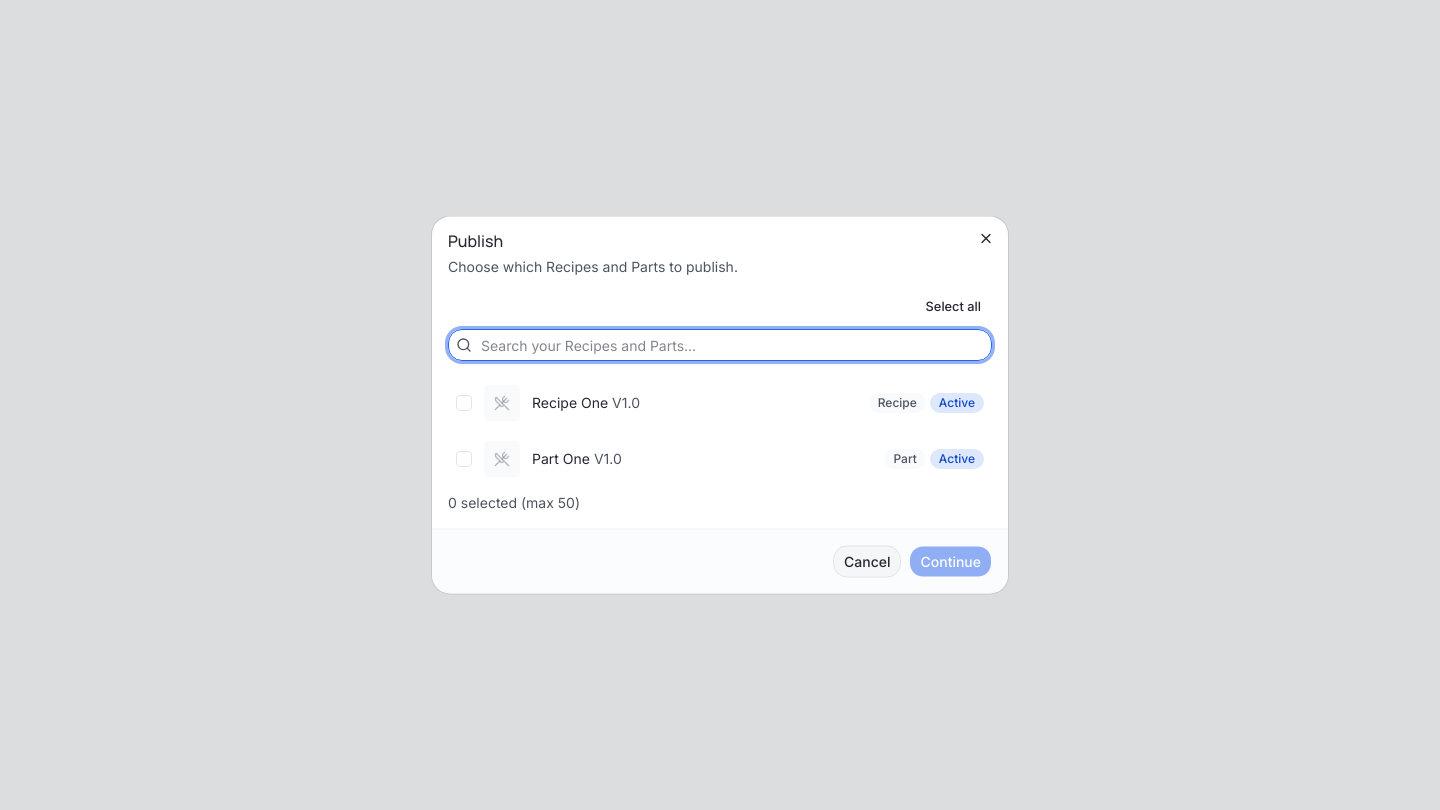
Test case: BulkPublishDialog › applies one shared settings payload and creates one independent link per selected item
Expected: the text "Recipe One" is shown, [532, 394, 608, 410]
What coordinates should you click on to do the following:
click the button "Select all"
I would click on:
 (953, 306)
Its box is [915, 292, 992, 320].
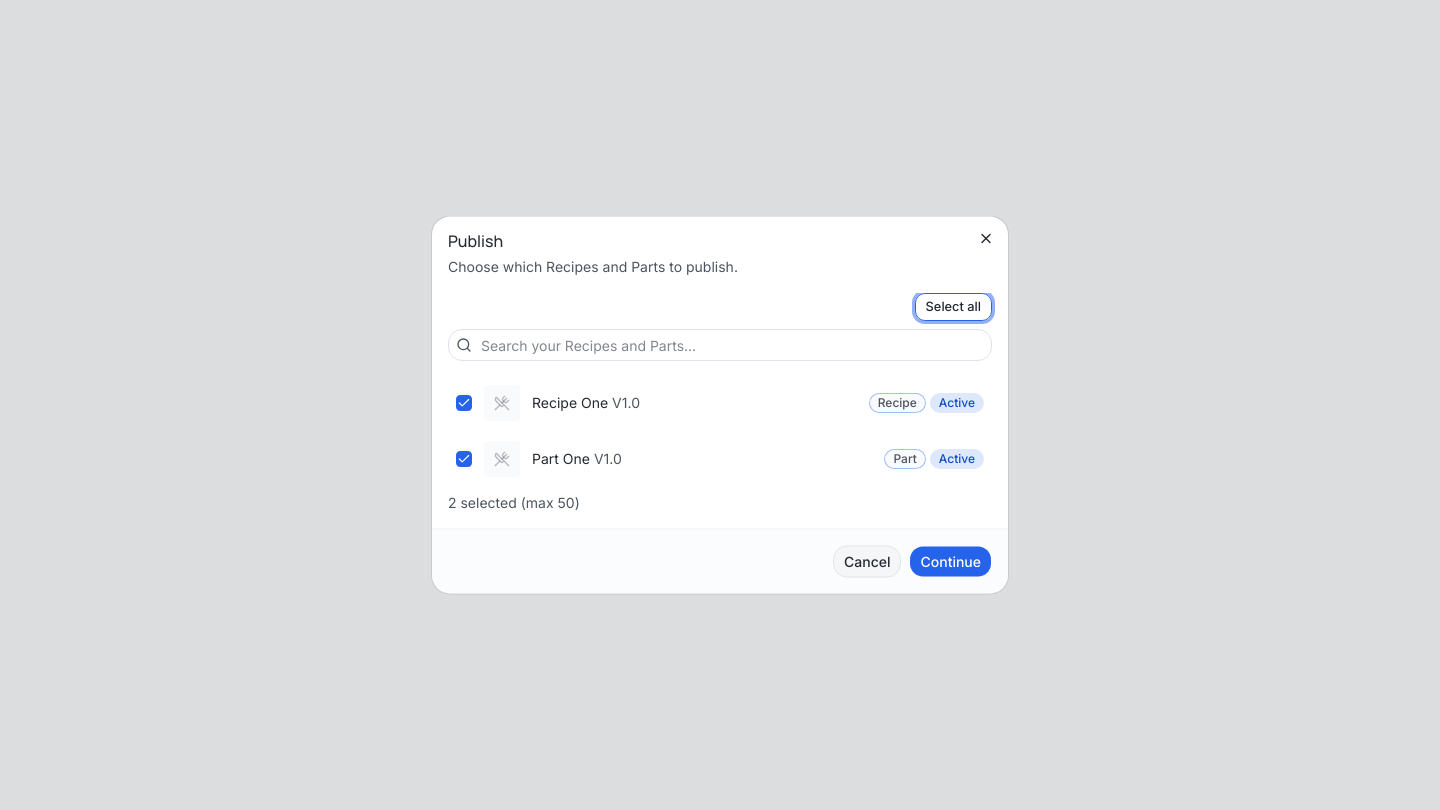
What coordinates should you click on to do the following:
click the button "Continue"
I would click on:
 (951, 562)
Its box is [910, 546, 992, 578].
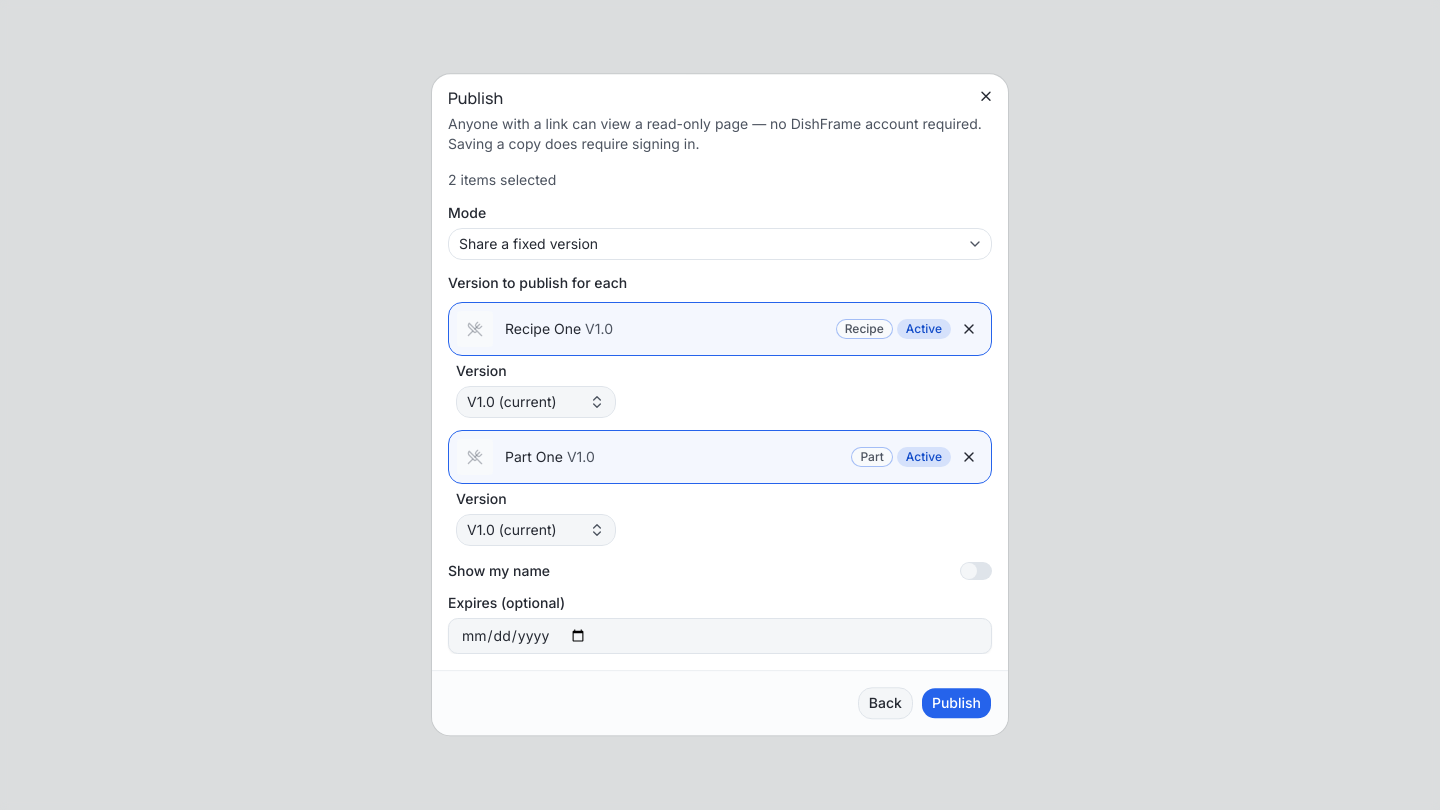
What coordinates should you click on to do the following:
click the dropdown labelled "Share a fixed version"
I would click on:
 (529, 244)
Its box is [448, 228, 992, 260].
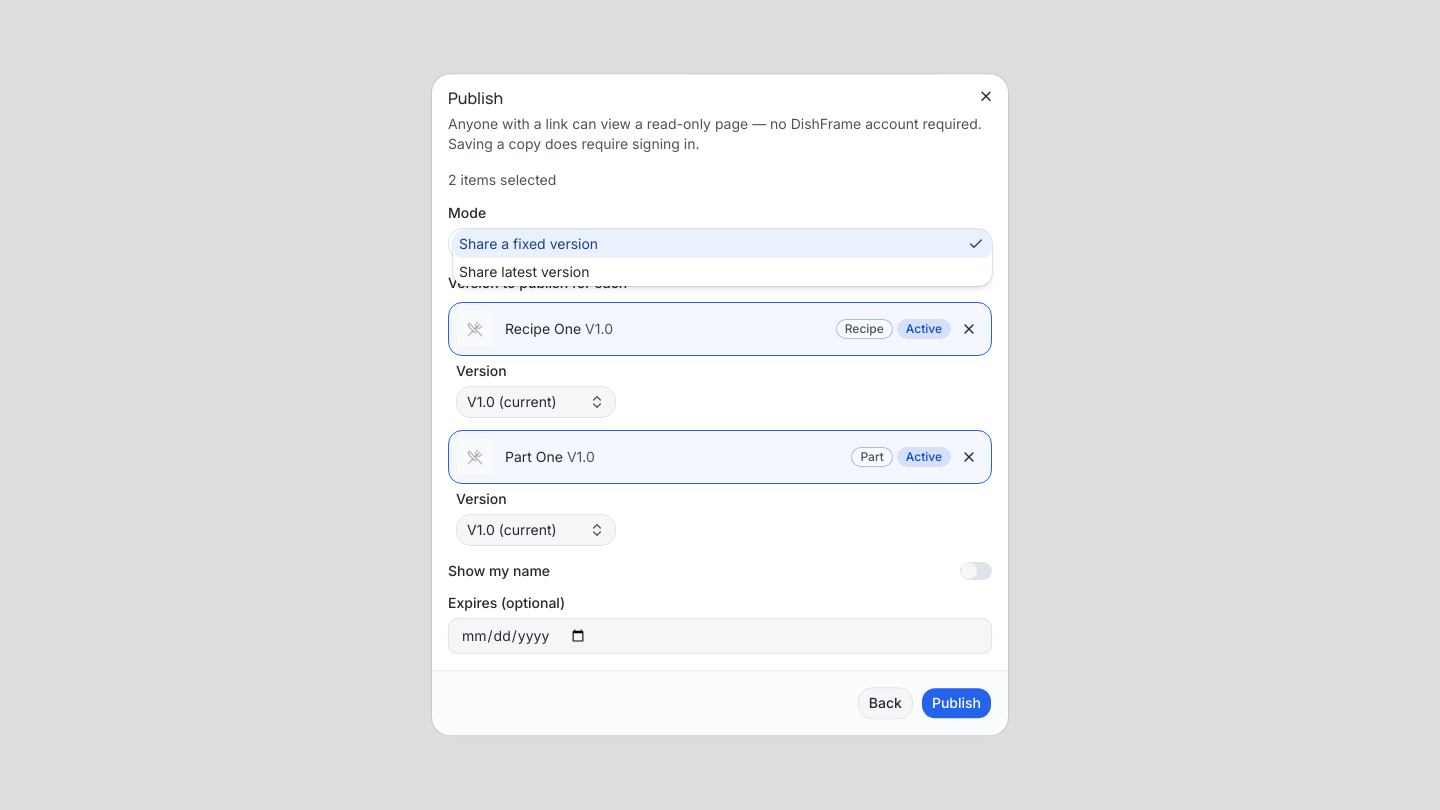
What coordinates should you click on to do the following:
click the option "Share latest version"
I would click on:
 (524, 272)
Its box is [459, 263, 590, 280].
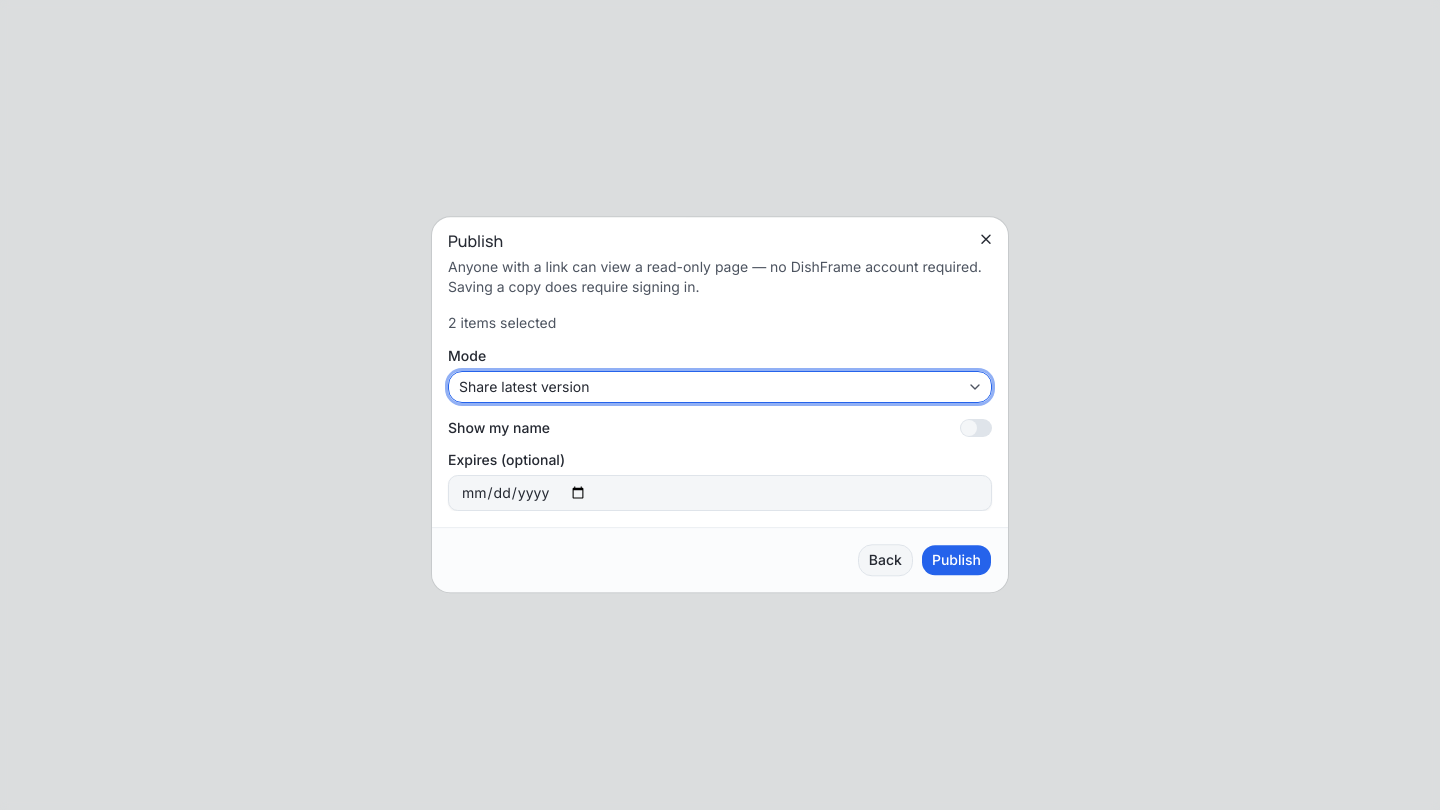
What coordinates should you click on to do the following:
click the button "Publish"
I would click on:
 (956, 561)
Its box is [921, 545, 992, 577].
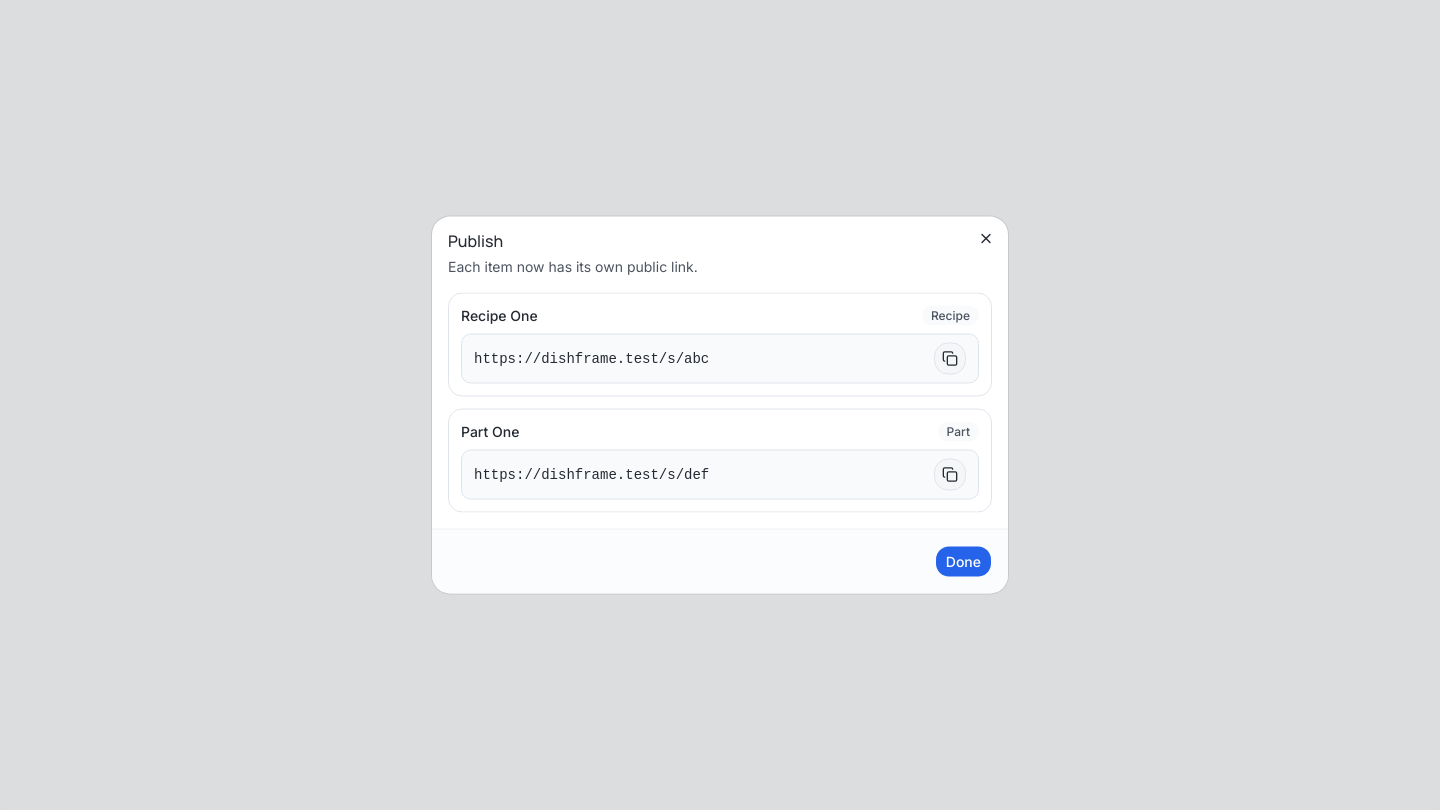
Now the text "https://dishframe.test/s/abc" is shown, box [474, 350, 709, 366]
Now the text "https://dishframe.test/s/def" is shown, box [474, 466, 709, 482]
